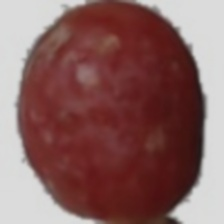grapes: (0, 15, 199, 175)
